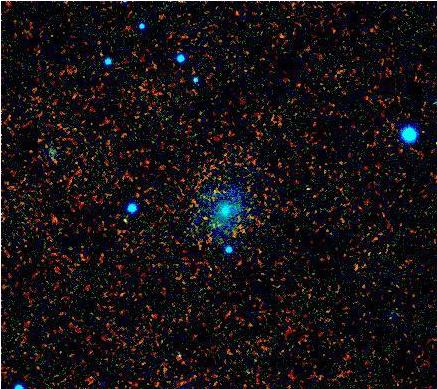star: (194, 207, 224, 237)
